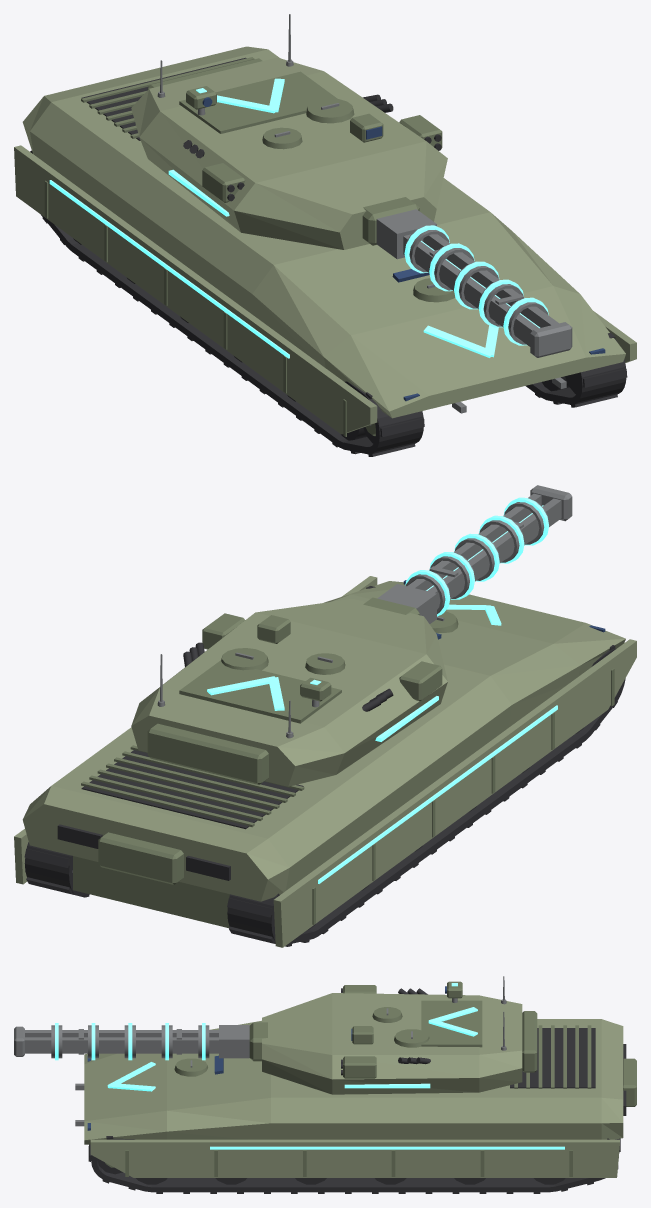
Rendered from mbt_rail_blue.glb.
3 views of the same model, one above another, from view 1: azimuth 30°, elevation 25°; view 2: azimuth 150°, elevation 25°; view 3: azimuth 270°, elevation 25° (orthographic). The views are drawn at different scales.
Visible parts, largest first — view 1: body, turret, gun; view 2: body, turret, gun; view 3: body, turret, gun.
Boxes of the visible parts, x1,y1,x2,y2 form: body: [14, 46, 636, 456]; turret: [131, 14, 447, 249]; gun: [362, 197, 572, 357]; body: [14, 576, 636, 947]; turret: [131, 599, 447, 786]; gun: [363, 485, 572, 623]; body: [75, 1019, 636, 1193]; turret: [262, 976, 537, 1094]; gun: [14, 1022, 267, 1061].
Bounding box in the file's own units: 3.78 × 2.9 × 10.18.
